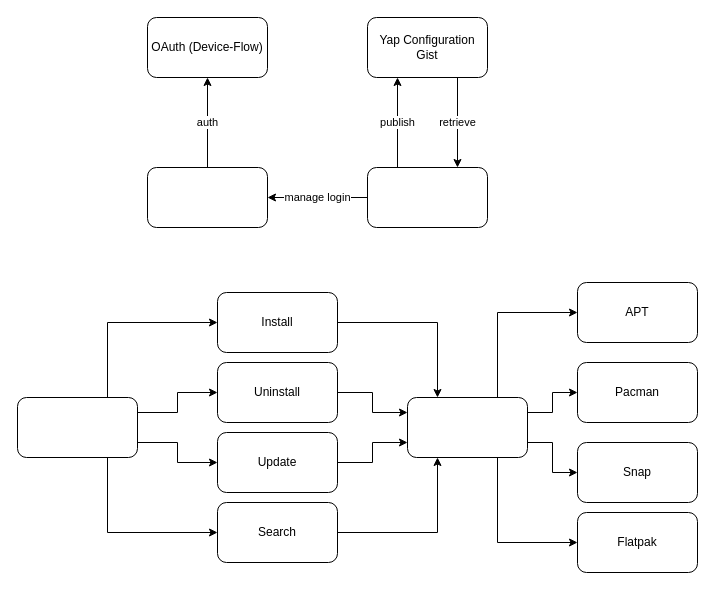
Some shapes in this 715 by 590 pixel diagram are drawn without their labels. Each missing label, with the centre of its shape:
Command: pixel 77 427
GitHub Account: pixel 207 197
GitHub Manager: pixel 427 197
Manager: pixel 467 427
